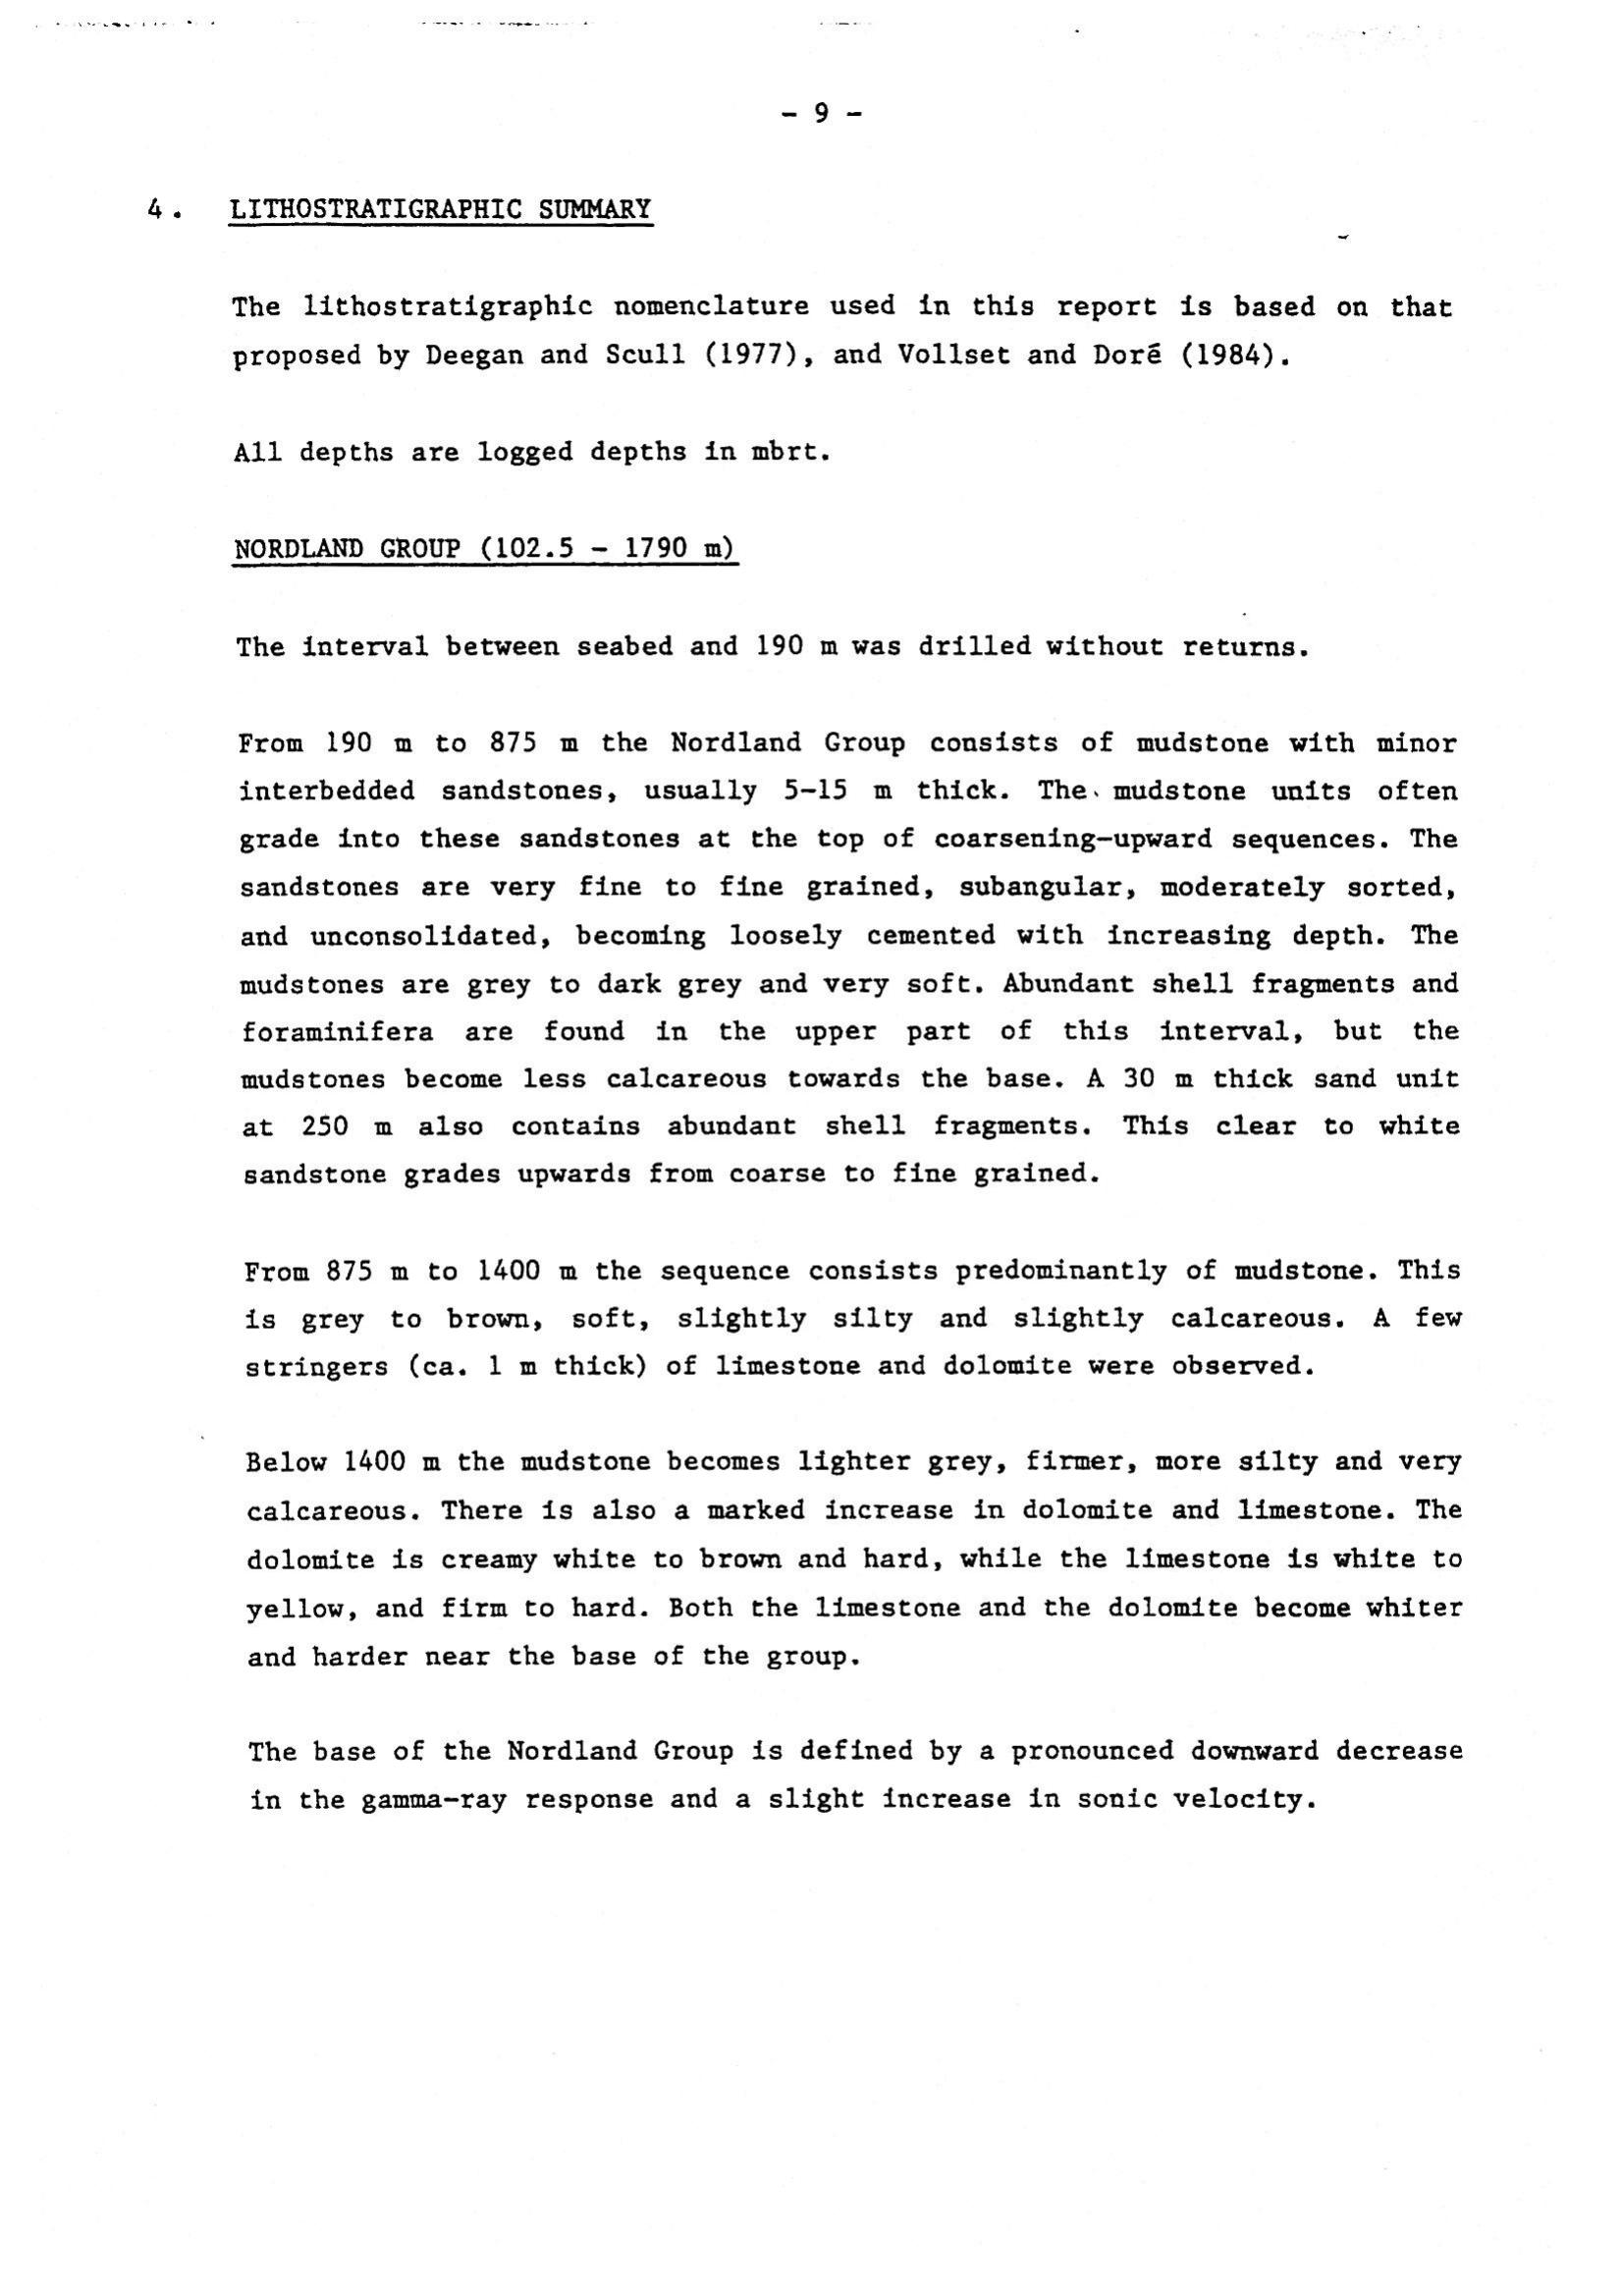text: (214, 513, 1504, 1862), (118, 162, 1511, 504)
